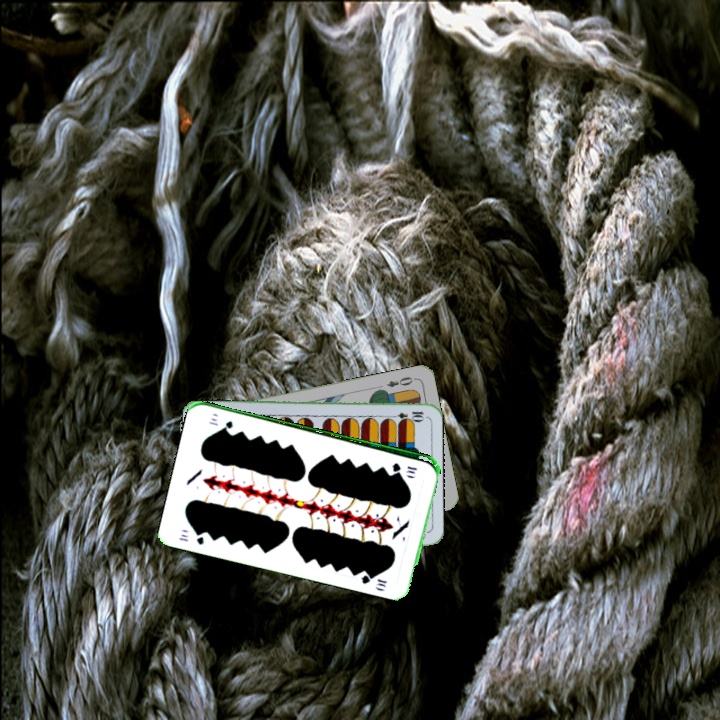E10: (386, 407, 426, 421)
EO: (383, 373, 418, 390)
G10: (175, 527, 207, 547), (388, 459, 419, 473)
